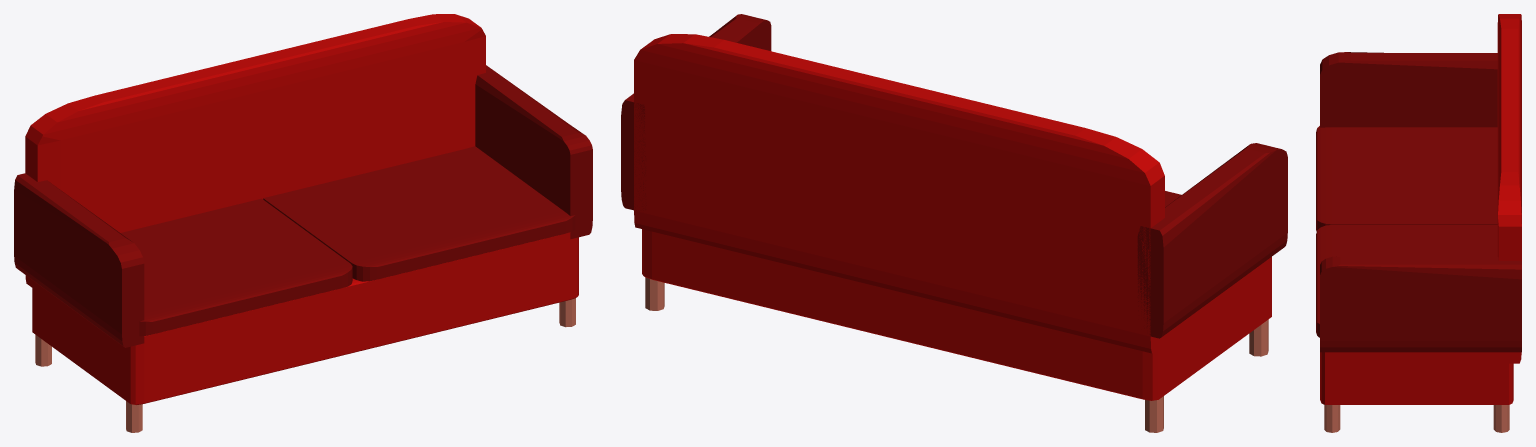
File: Couch.fbx
3 views of the same model, side by side, from view 1: azimuth 30°, elevation 25°; view 2: azimuth 150°, elevation 25°; view 3: azimuth 270°, elevation 25° (orthographic). The views are drawn at different scales.
Parts seen in each view (by area): view 1: Cube.005; view 2: Cube.005; view 3: Cube.005.
Part boxes in pixels (left/top/right/bottom): Cube.005: left=14, top=14, right=592, bottom=432; Cube.005: left=621, top=14, right=1287, bottom=432; Cube.005: left=1316, top=14, right=1521, bottom=432.
Size of the model in its own units: 630 by 315 by 255.
